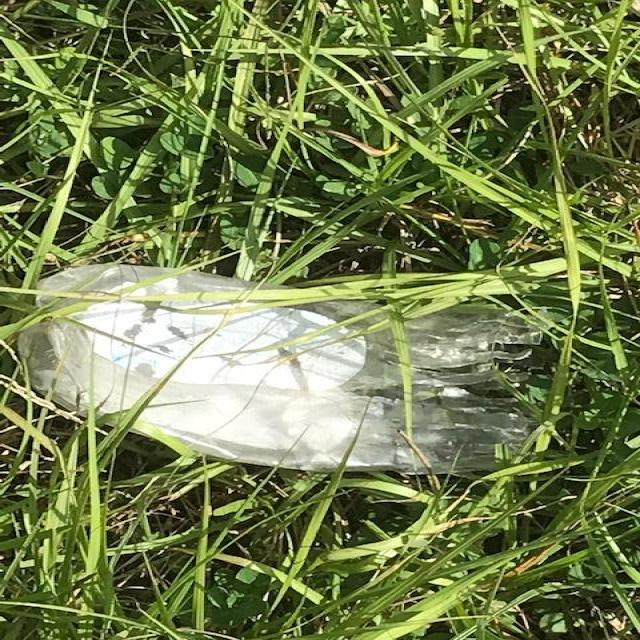litter: (353, 73, 635, 469)
